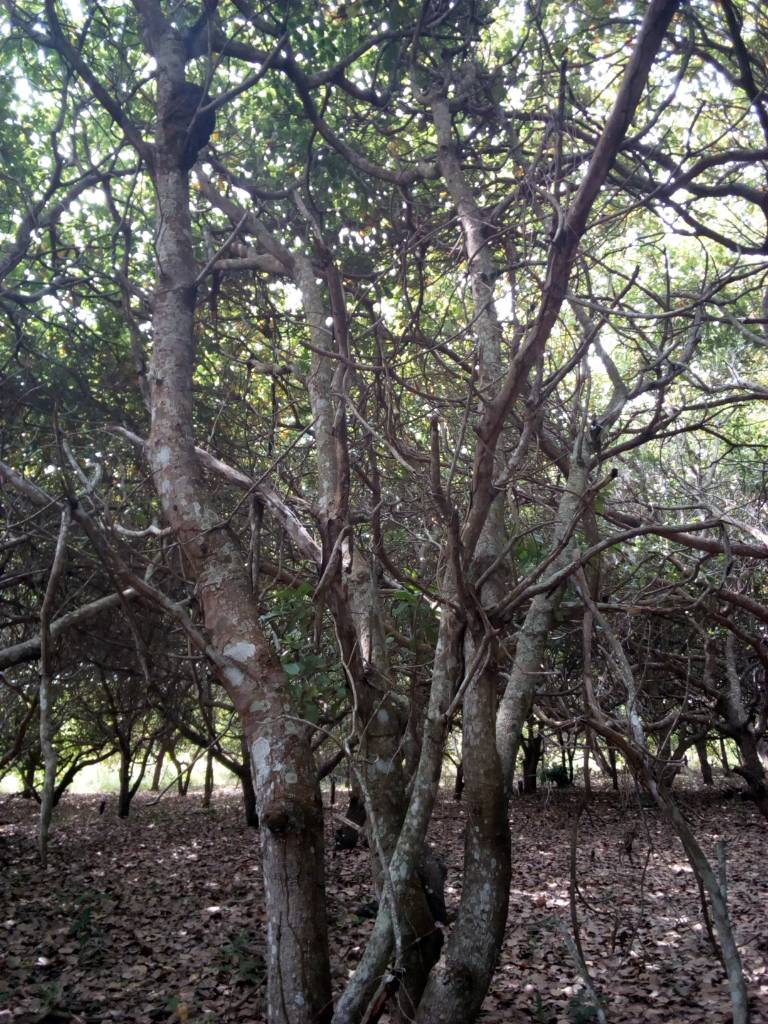Termites: (163, 83, 213, 160)
